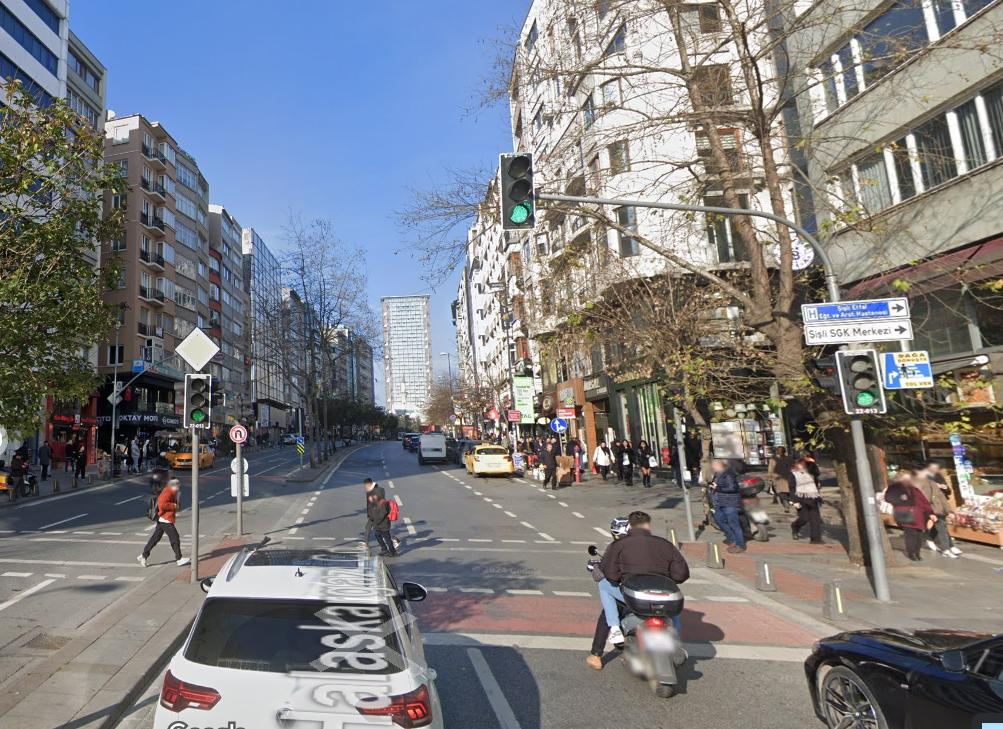greenlight: (500, 151, 536, 229), (837, 348, 881, 411), (186, 370, 215, 430)
